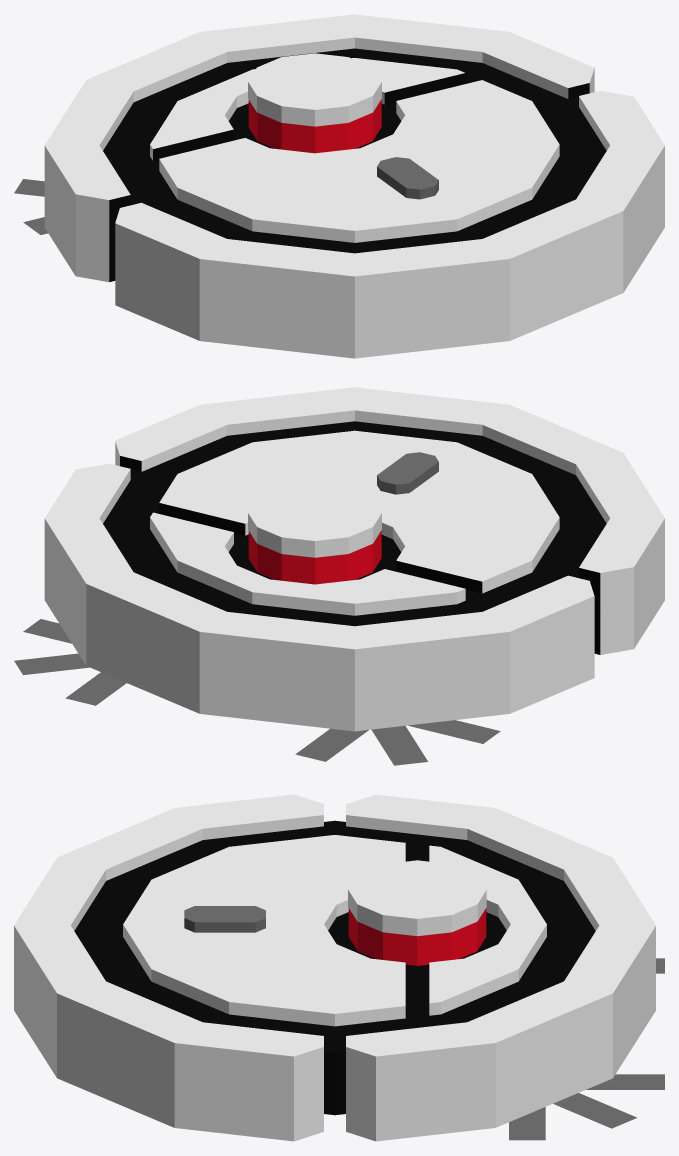
File: Cleaner.fbx
3 views of the same model, one above another, from view 1: azimuth 30°, elevation 25°; view 2: azimuth 150°, elevation 25°; view 3: azimuth 270°, elevation 25° (orthographic). The views are drawn at different scales.
Visible parts, largest first — view 1: Cleaner; view 2: Cleaner; view 3: Cleaner.
Boxes of the visible parts, left/top/right/bottom form: Cleaner: left=14, top=14, right=664, bottom=358; Cleaner: left=14, top=387, right=664, bottom=765; Cleaner: left=14, top=794, right=664, bottom=1141.
Bounding box in the file's own units: 154 × 36.74 × 161.
